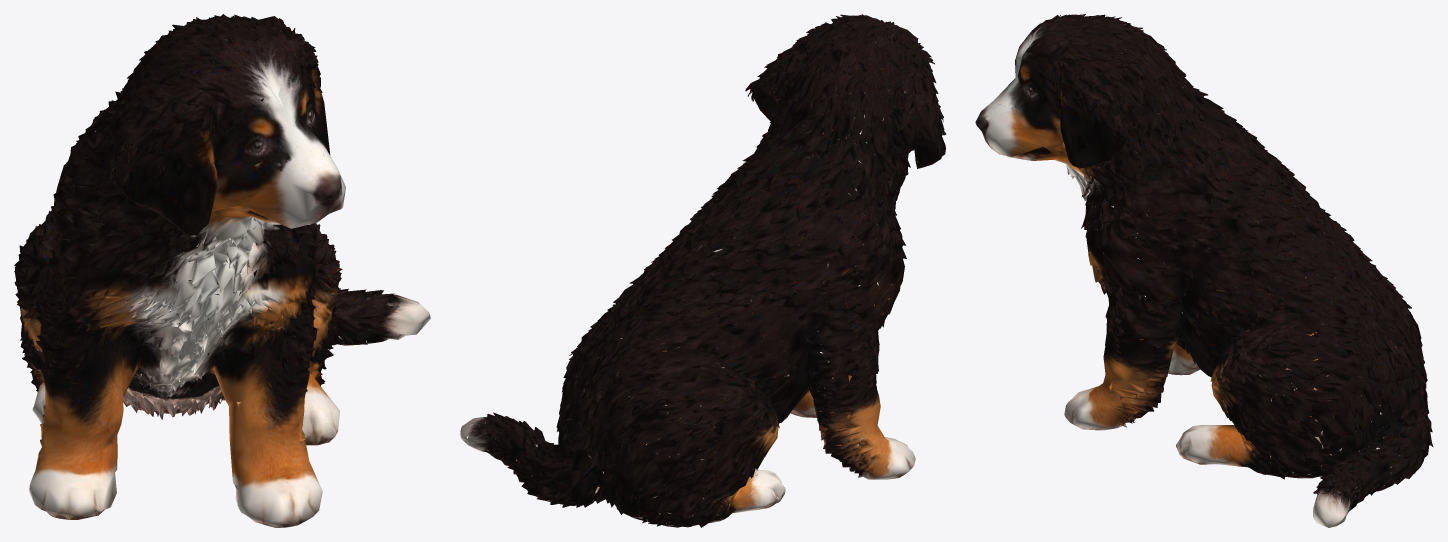
Rendered from puppy.glb.
3 renders of one model, left to right at view 1: azimuth 30°, elevation 25°; view 2: azimuth 150°, elevation 25°; view 3: azimuth 270°, elevation 25°, orthographic. The views are drawn at different scales.
Visible parts, largest first — view 1: puppy; view 2: puppy; view 3: puppy.
Boxes of the visible parts, x1,y1,x2,y2 form: puppy: [14, 14, 430, 527]; puppy: [459, 14, 946, 527]; puppy: [975, 14, 1433, 527].
Bounding box in the file's own units: 0.4048 × 0.3971 × 0.435.
Materials: 1 (1 with a texture image).
